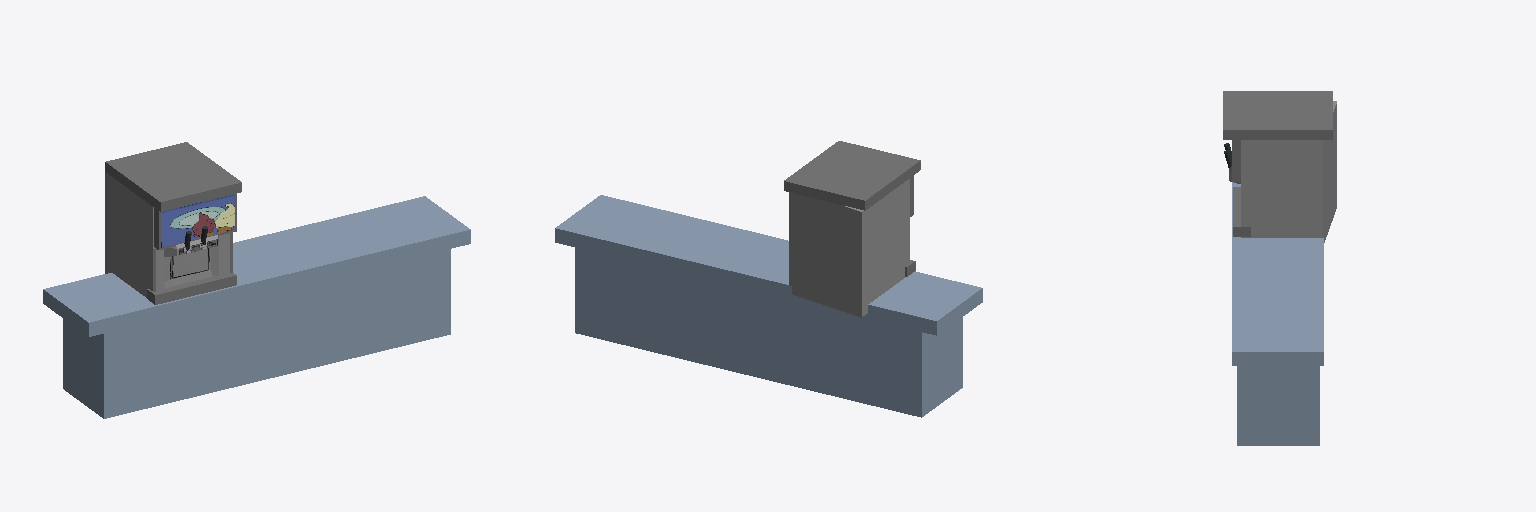
The picture shows the model from 3 angles: view 1: azimuth 30°, elevation 25°; view 2: azimuth 150°, elevation 25°; view 3: azimuth 270°, elevation 25°; orthographic projection.
Parts seen in each view (by area): view 1: pCube1, pCube2, pCube3, pCube6, pCube4, pCube5; view 2: pCube1, pCube2, pCube3, pCube6; view 3: pCube2, pCube3, pCube1, pCube6.
Part boxes in pixels (x1,y1,x2,y2): pCube1: (63, 249, 450, 418); pCube2: (43, 196, 470, 336); pCube3: (105, 172, 232, 297); pCube6: (105, 142, 241, 211); pCube4: (154, 194, 236, 249); pCube5: (147, 273, 236, 304); pCube1: (575, 248, 962, 417); pCube2: (555, 195, 982, 335); pCube3: (789, 179, 909, 317); pCube6: (784, 141, 920, 210); pCube2: (1232, 182, 1323, 365); pCube3: (1229, 101, 1336, 242); pCube1: (1237, 366, 1319, 445); pCube6: (1223, 91, 1332, 139).
Bounding box in the file's own units: 6.73 × 3.53 × 1.75.
7 materials, 5 textured.